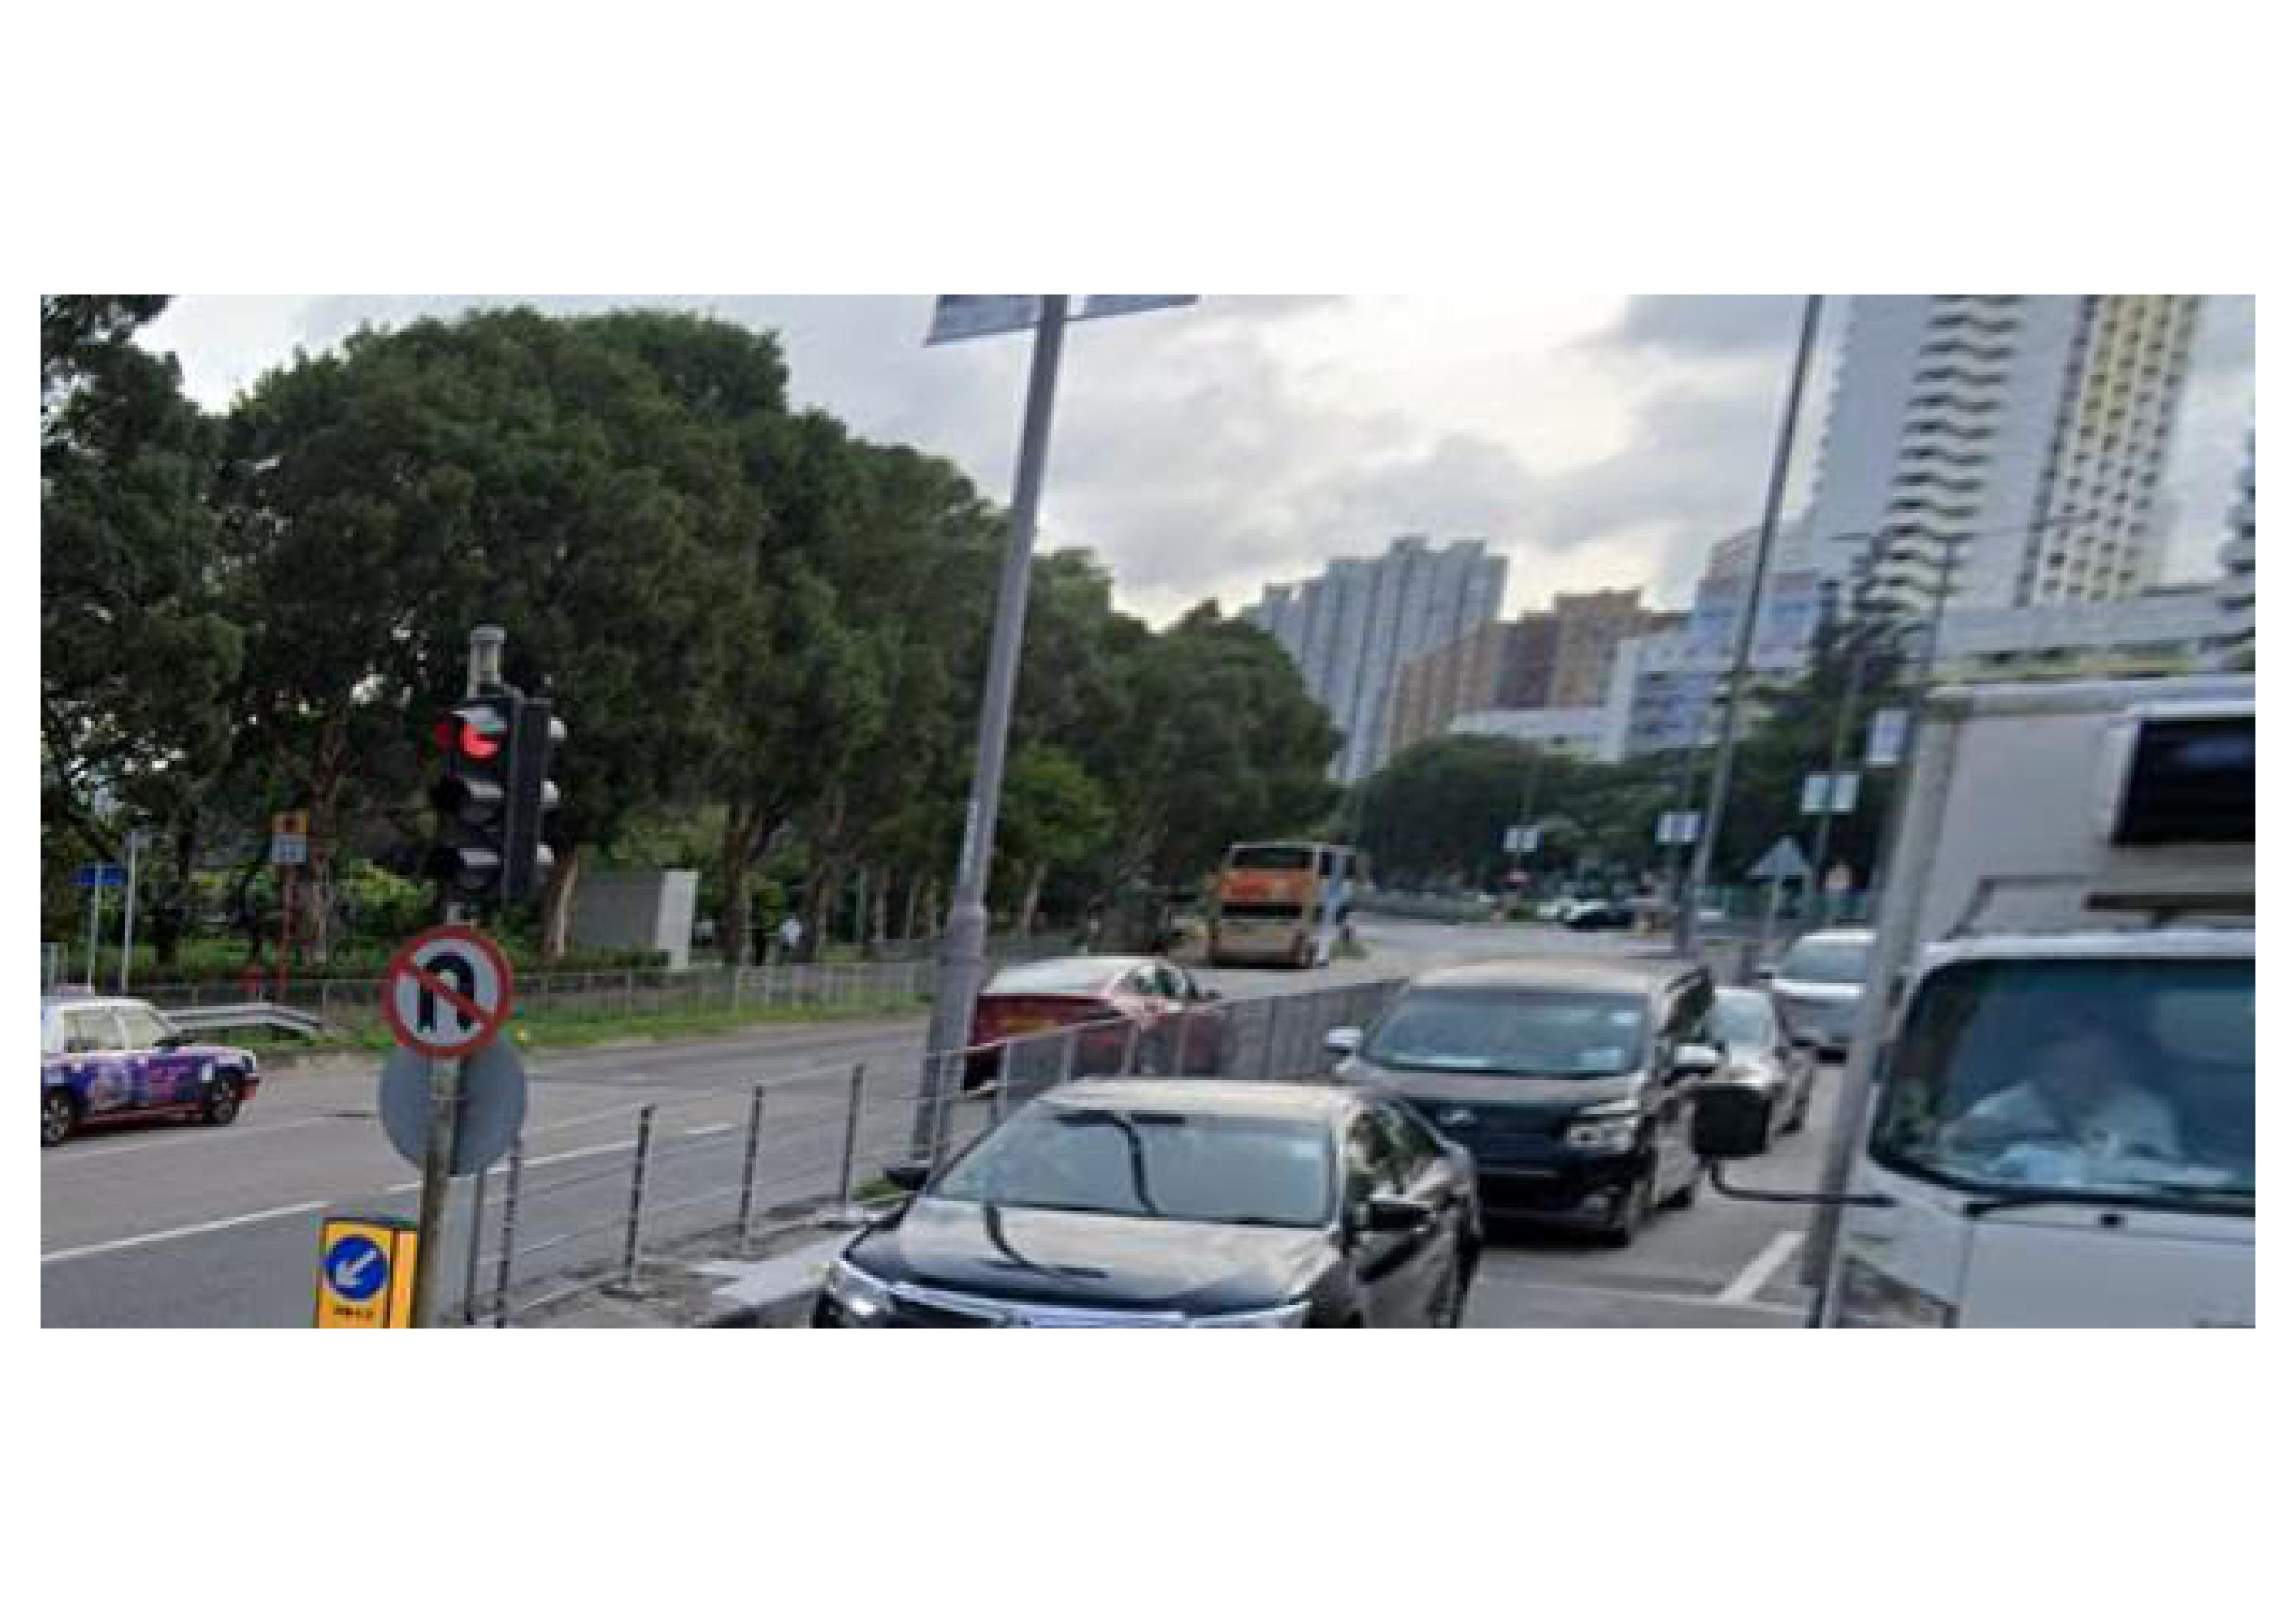No Uturn: (381, 924, 509, 1052)
